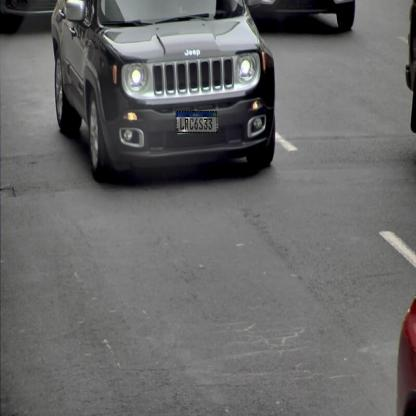PlacaM: (176, 111, 217, 133)
